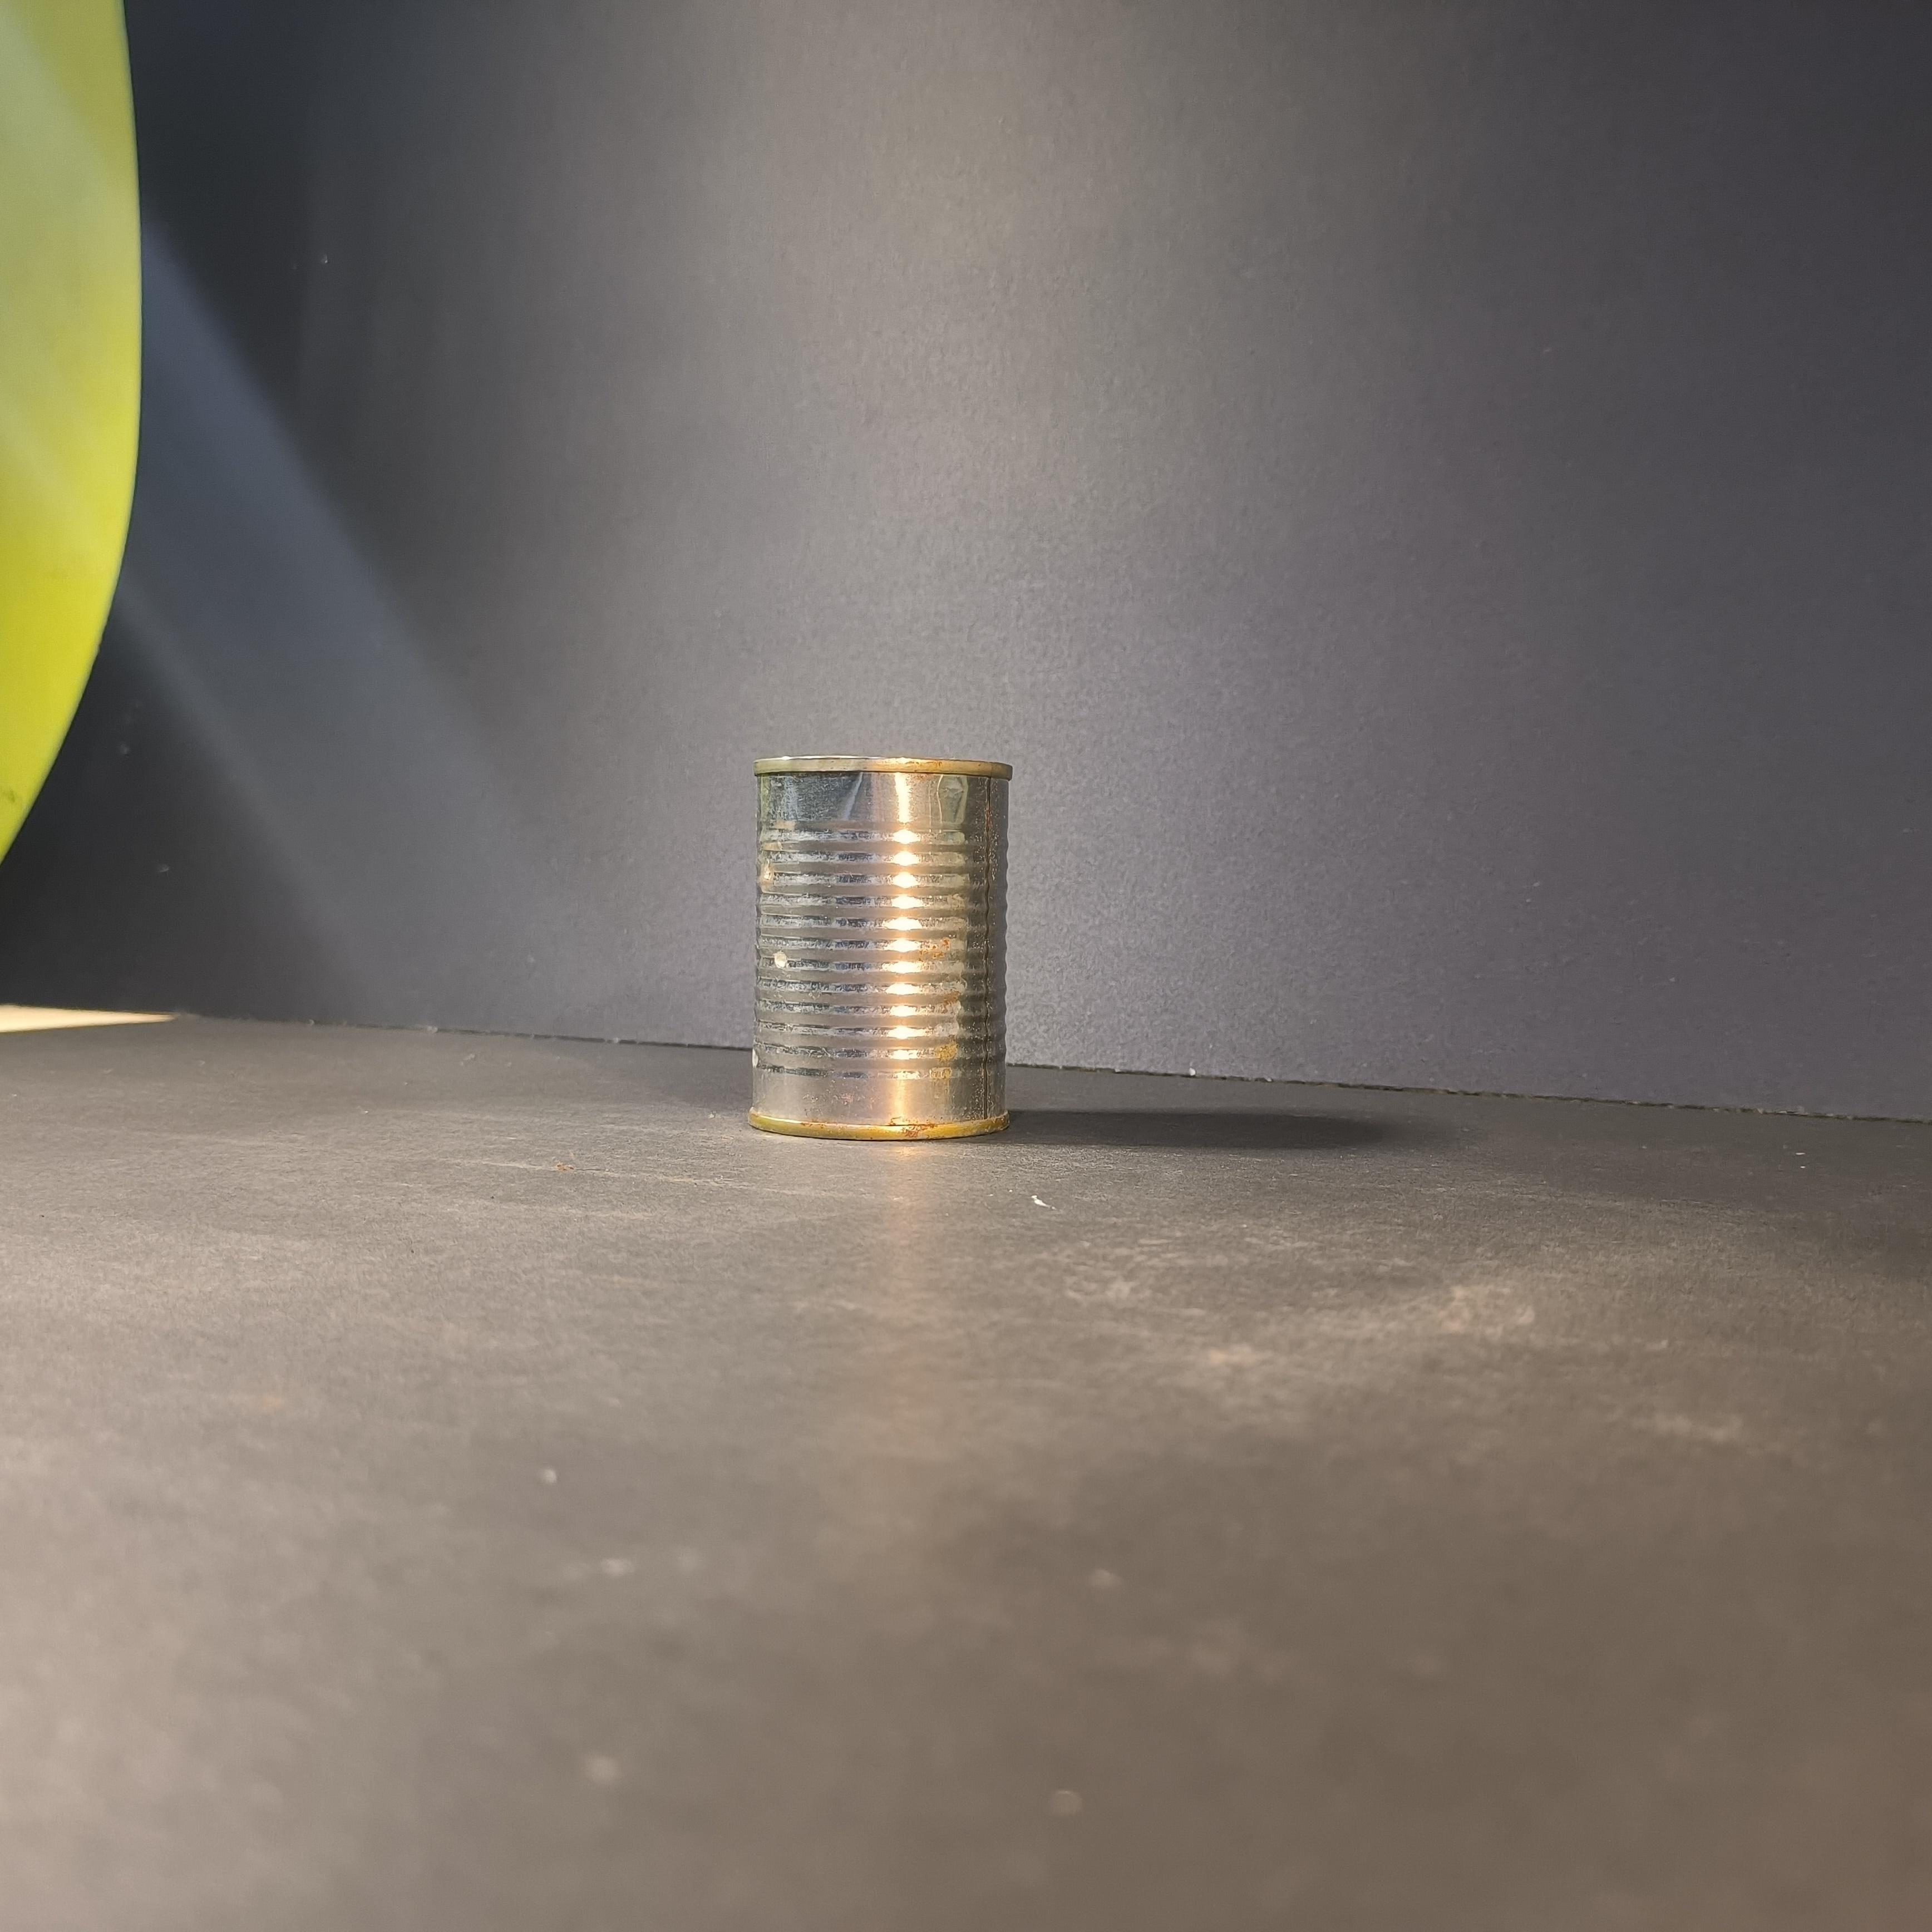Dented: (732, 718, 1030, 1152)
